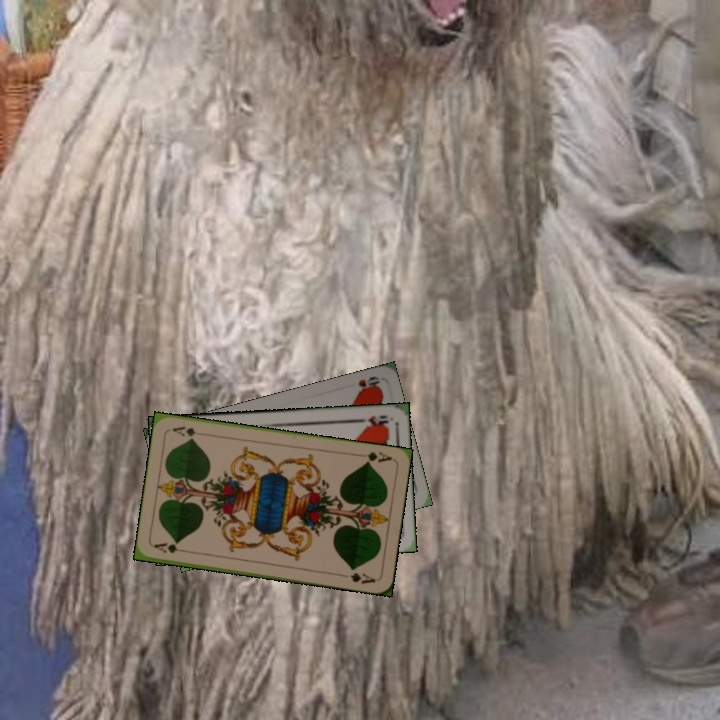GA: (354, 447, 394, 466), (150, 539, 191, 556)
HO: (352, 411, 391, 428), (354, 372, 382, 394)
